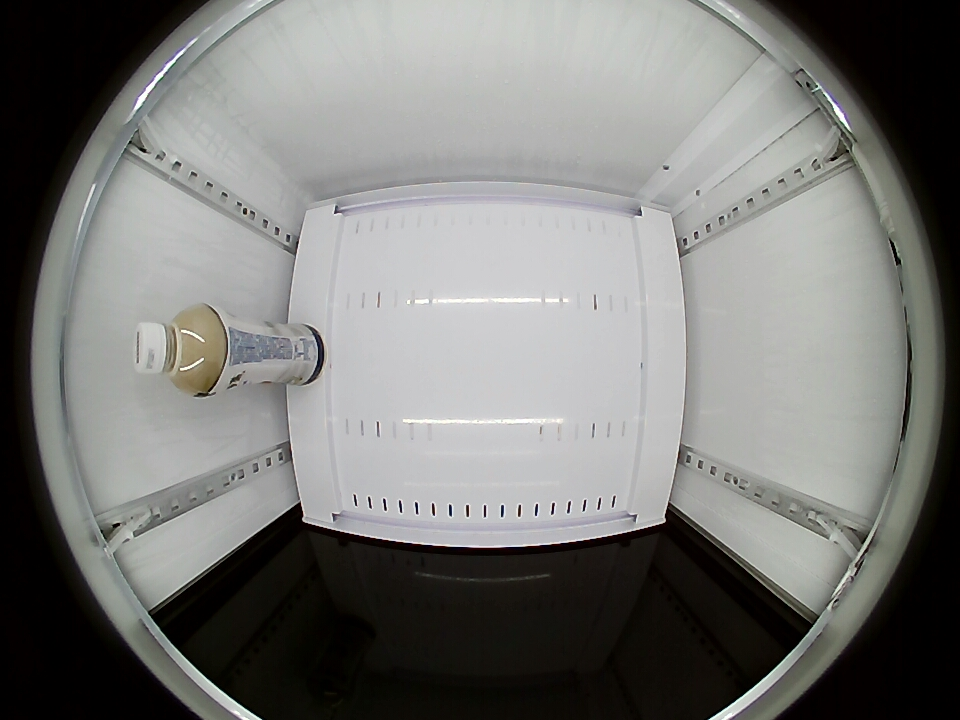wuhounaicha: (133, 303, 229, 397)
